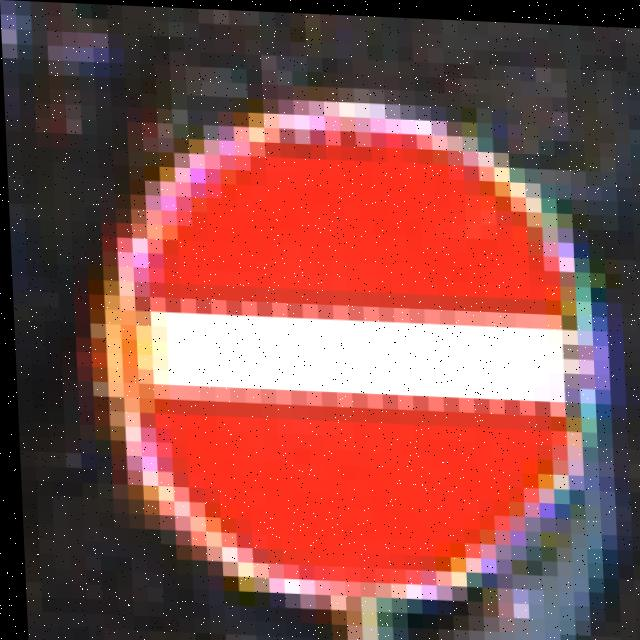road_rough: (92, 121, 629, 609)
